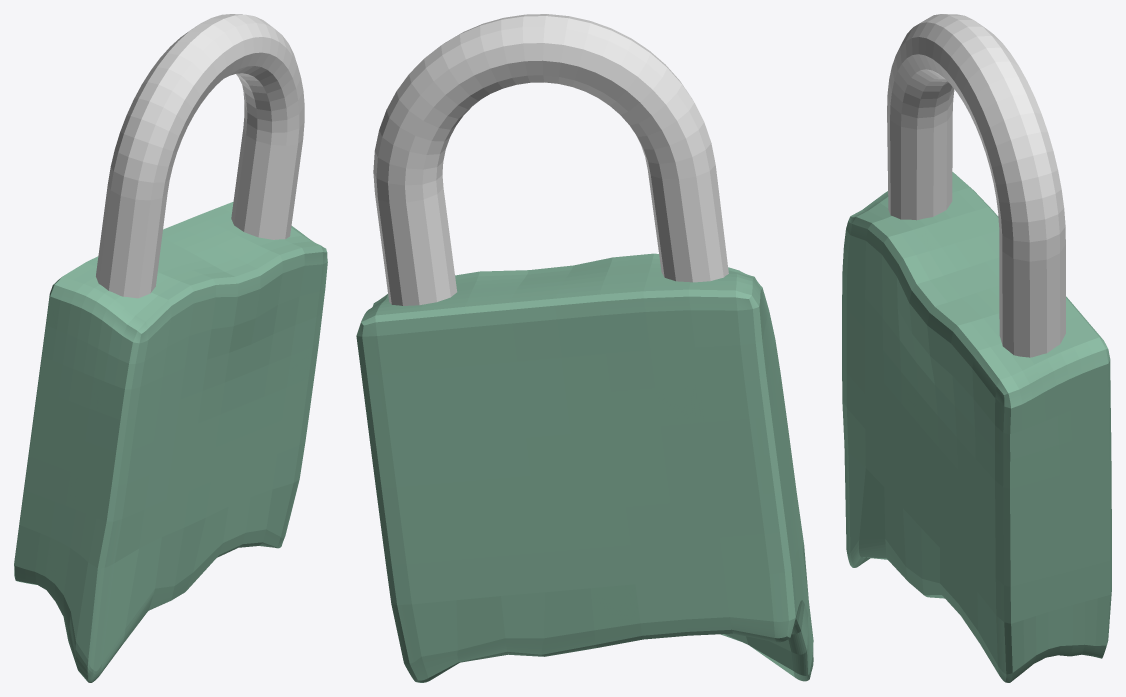
Rendered from lock-tear.glb.
3 renders of one model, left to right at view 1: azimuth 30°, elevation 25°; view 2: azimuth 150°, elevation 25°; view 3: azimuth 270°, elevation 25°, orthographic. The views are drawn at different scales.
Parts seen in each view (by area): view 1: Lock; view 2: Lock; view 3: Lock.
Boxes of the visible parts, <box> form: Lock: <box>14,14,327,682</box>; Lock: <box>356,14,813,682</box>; Lock: <box>842,14,1111,682</box>.
Bounding box in the file's own units: 5.9 × 9.49 × 3.67.
